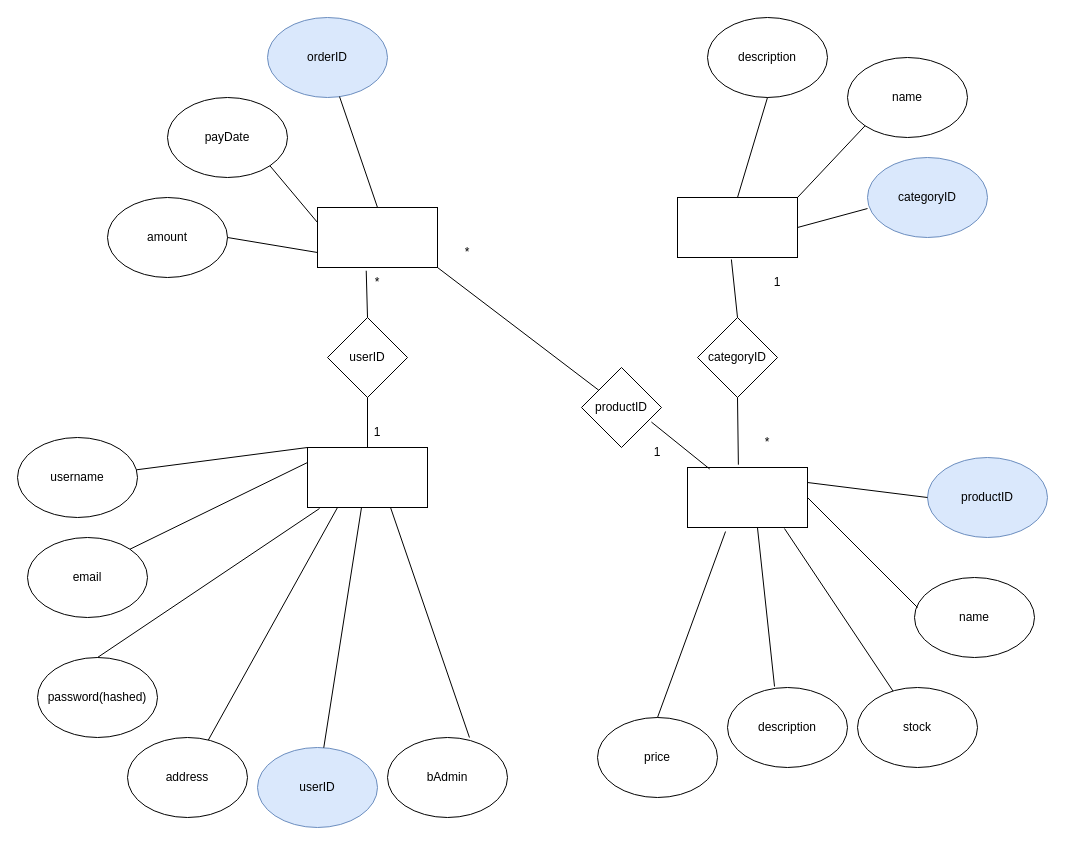
Image size: 1065x845. Some labels were removed from this diagram. The shapes that lost their labels are listed below. From the top down, each one's box as (x1, y1, x2, y2) in pixels, then its label:
(316, 206, 438, 268): orders
(676, 196, 798, 258): categories
(306, 446, 428, 508): users
(686, 466, 808, 528): products
